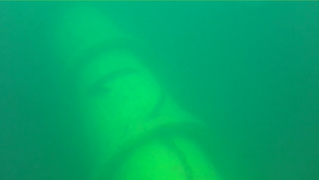1: (83, 66, 138, 98)
pipe: (46, 1, 225, 179)
